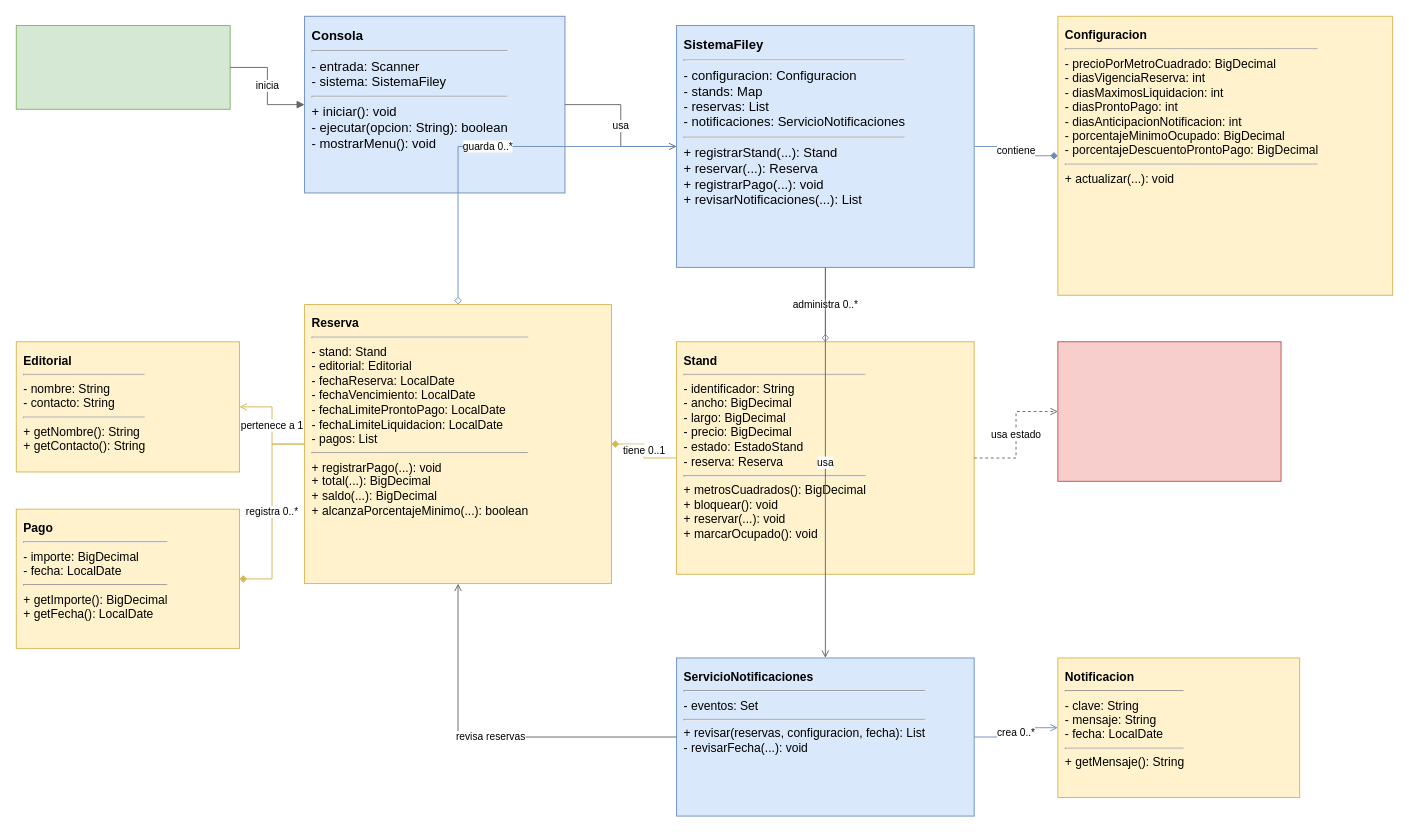
This 1409x832 diagram has some shape labels left out. The box of each missing label's shape, as (x1, y1, x2, y2) in pixels:
EstadoStand DISPONIBLE RESERVADO OCUPADO BLOQUEADO: (1057, 341, 1281, 481)
Main + main(args: String[]): void: (15, 25, 230, 109)
